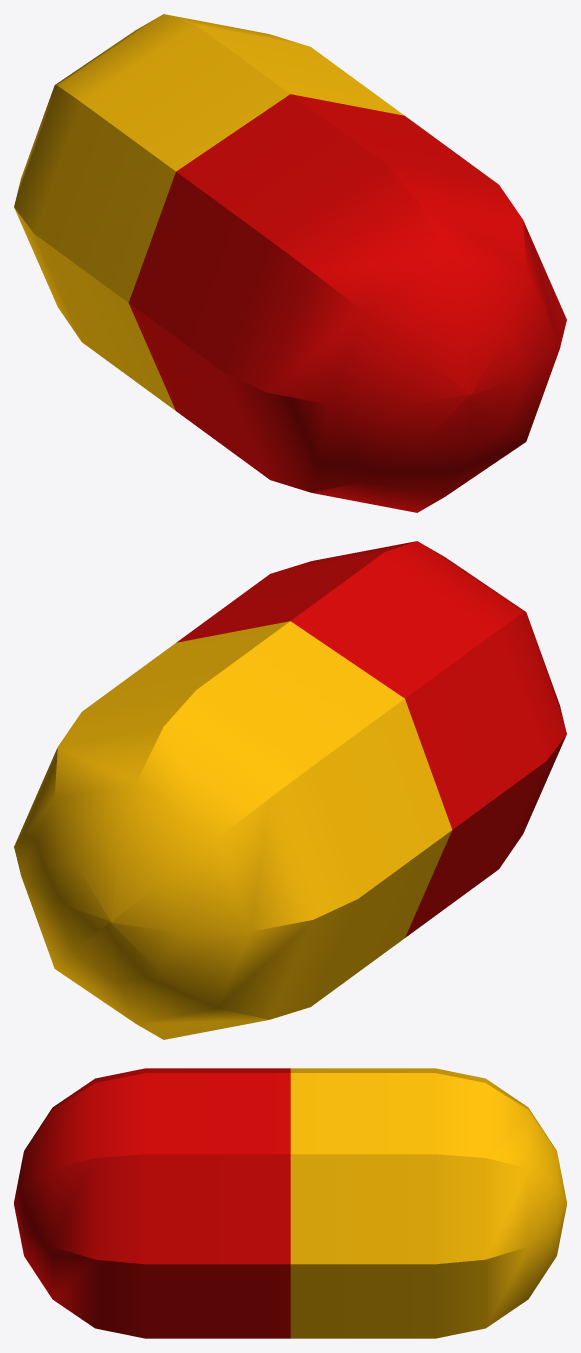
Rendered from Pill.fbx.
The picture shows the model from 3 angles, top to bottom: view 1: azimuth 30°, elevation 25°; view 2: azimuth 150°, elevation 25°; view 3: azimuth 270°, elevation 25°; orthographic projection. The views are drawn at different scales.
Visible parts, largest first — view 1: Pill; view 2: Pill; view 3: Pill.
Part boxes in pixels (x1,y1,x2,y2): Pill: (14, 14, 566, 512); Pill: (14, 541, 566, 1039); Pill: (14, 1068, 566, 1338).
Size of the model in its own units: 14.8 by 14.8 by 28.45.
Materials: 1 (1 with a texture image).
